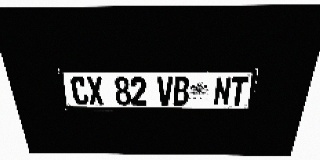2: (130, 77, 147, 105)
8: (114, 77, 131, 105)
B: (173, 77, 189, 105)
C: (70, 77, 89, 105)
N: (213, 77, 232, 106)
T: (229, 77, 249, 106)
V: (157, 77, 173, 105)
X: (86, 77, 105, 105)
